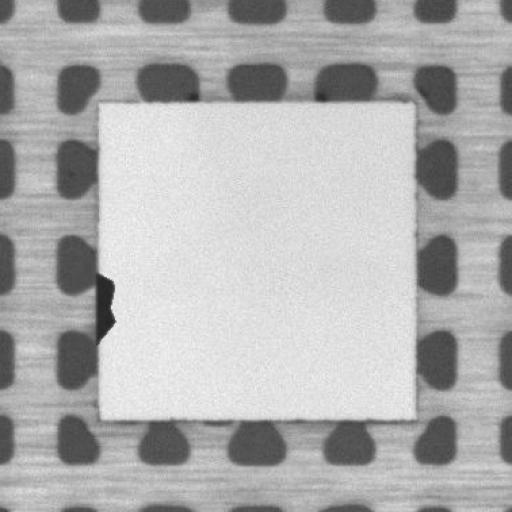DIE_BROKEN: (90, 266, 118, 338)
